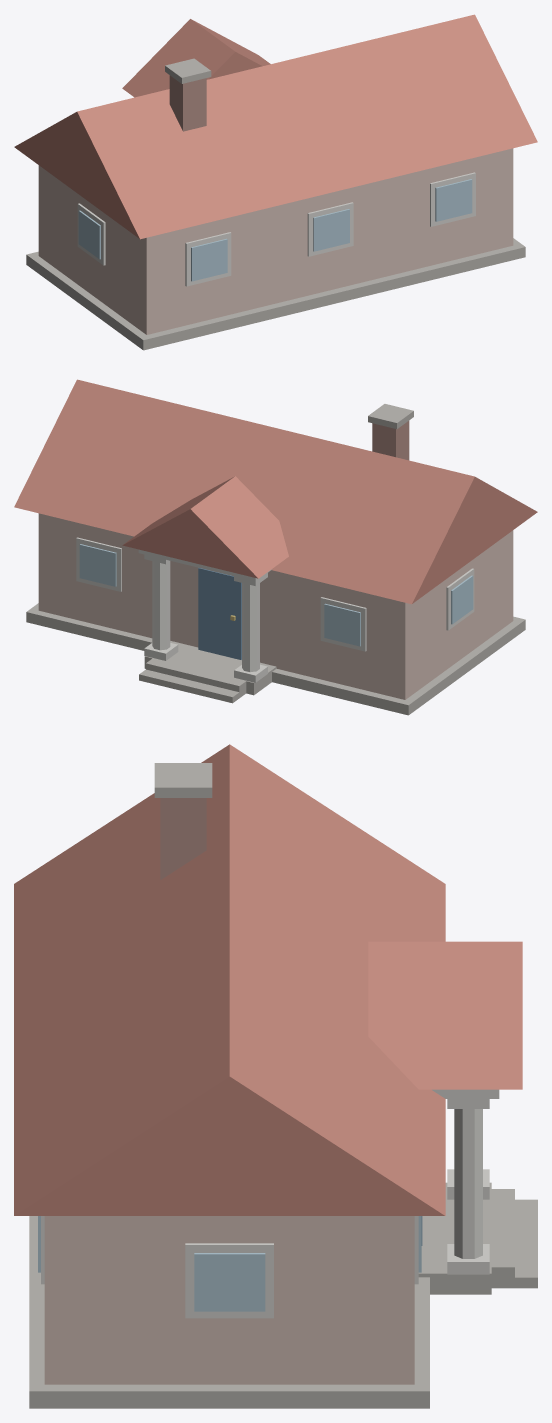
The model's file is casa-n02-4f014c41.glb.
The picture shows the model from 3 angles, top to bottom: view 1: azimuth 30°, elevation 25°; view 2: azimuth 150°, elevation 25°; view 3: azimuth 270°, elevation 25°; orthographic projection. The views are drawn at different scales.
Size of the model in its own units: 10.2 by 5.57 by 6.8.
